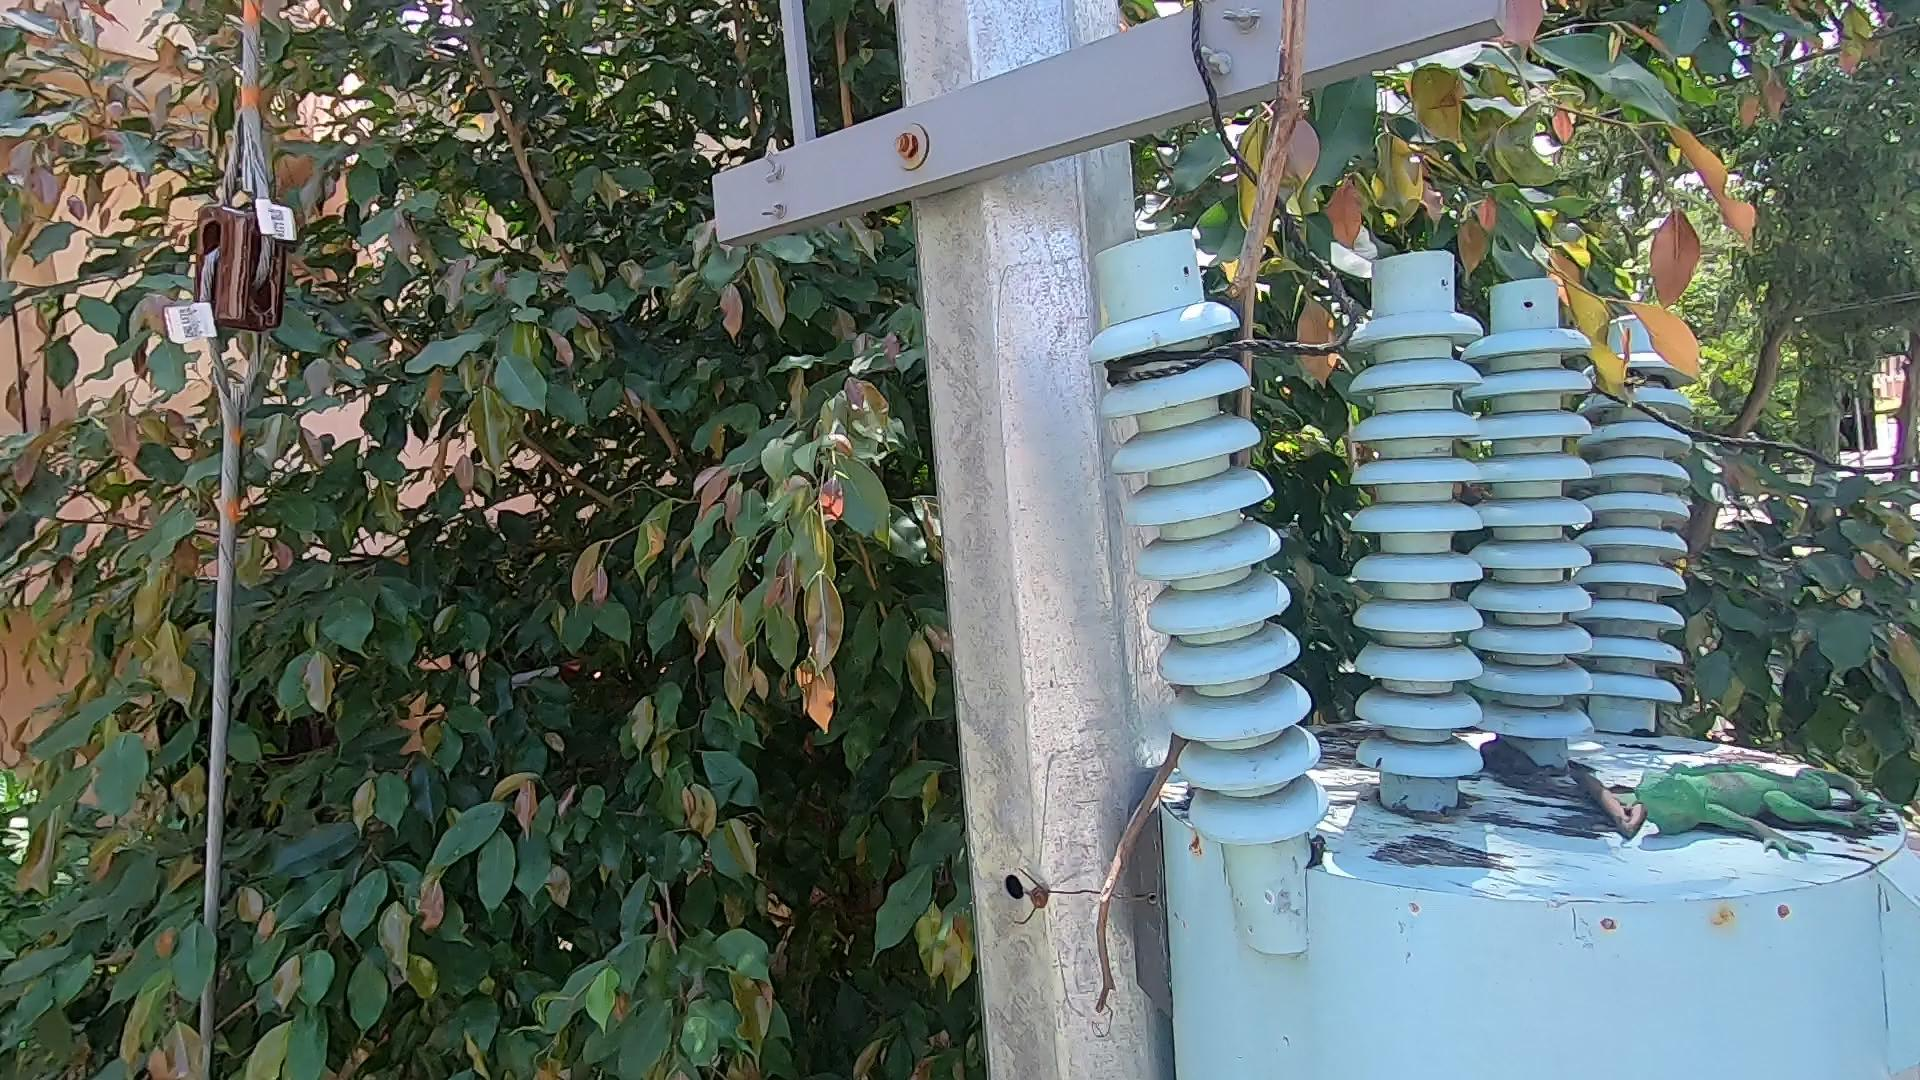branch with leaves: (1524, 241, 1720, 430)
leaf: (1560, 757, 1658, 851), (1481, 731, 1565, 791)
tree branch: (992, 12, 1276, 1018)
